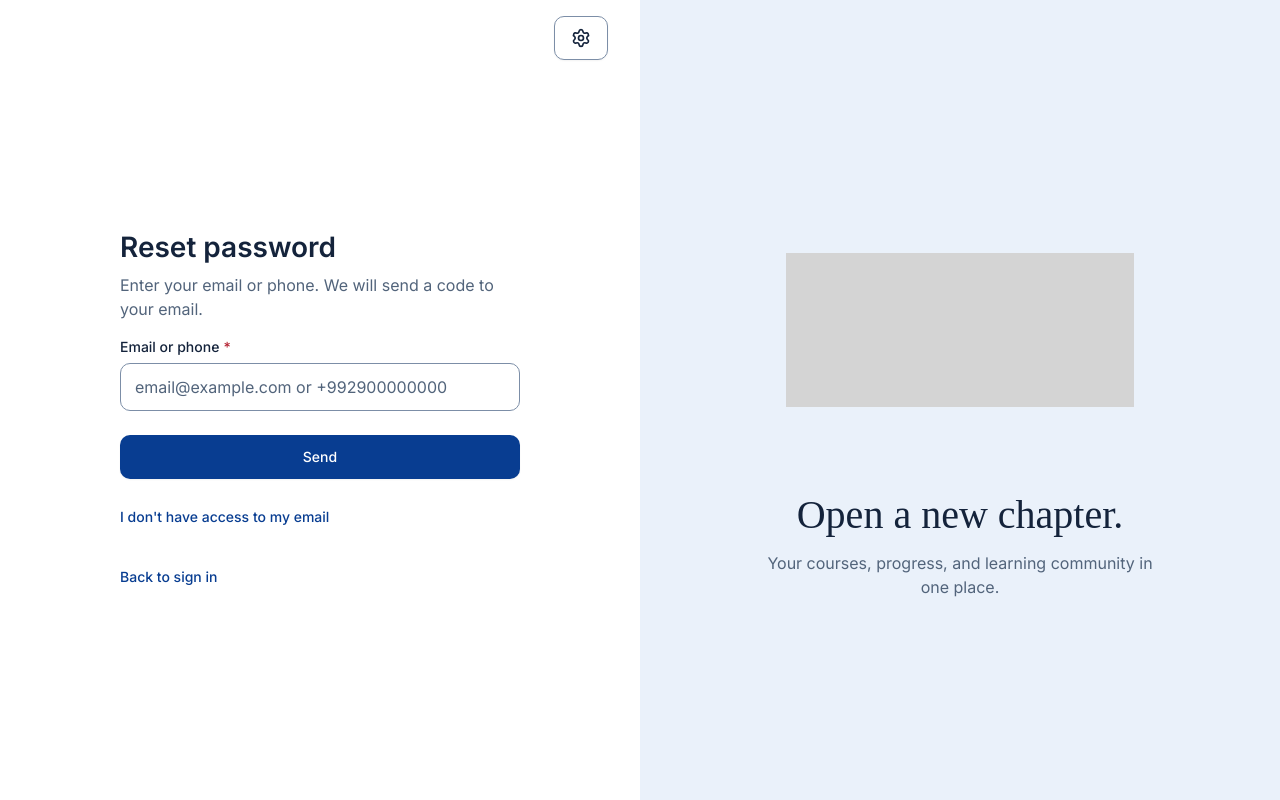
Test: ForgotPassword default path › sends only the identifier and keeps the email code entry reachable without naming the account
In the field labelled "Email or phone*": (320, 387) [120, 363, 520, 411], type "kid@example.com"
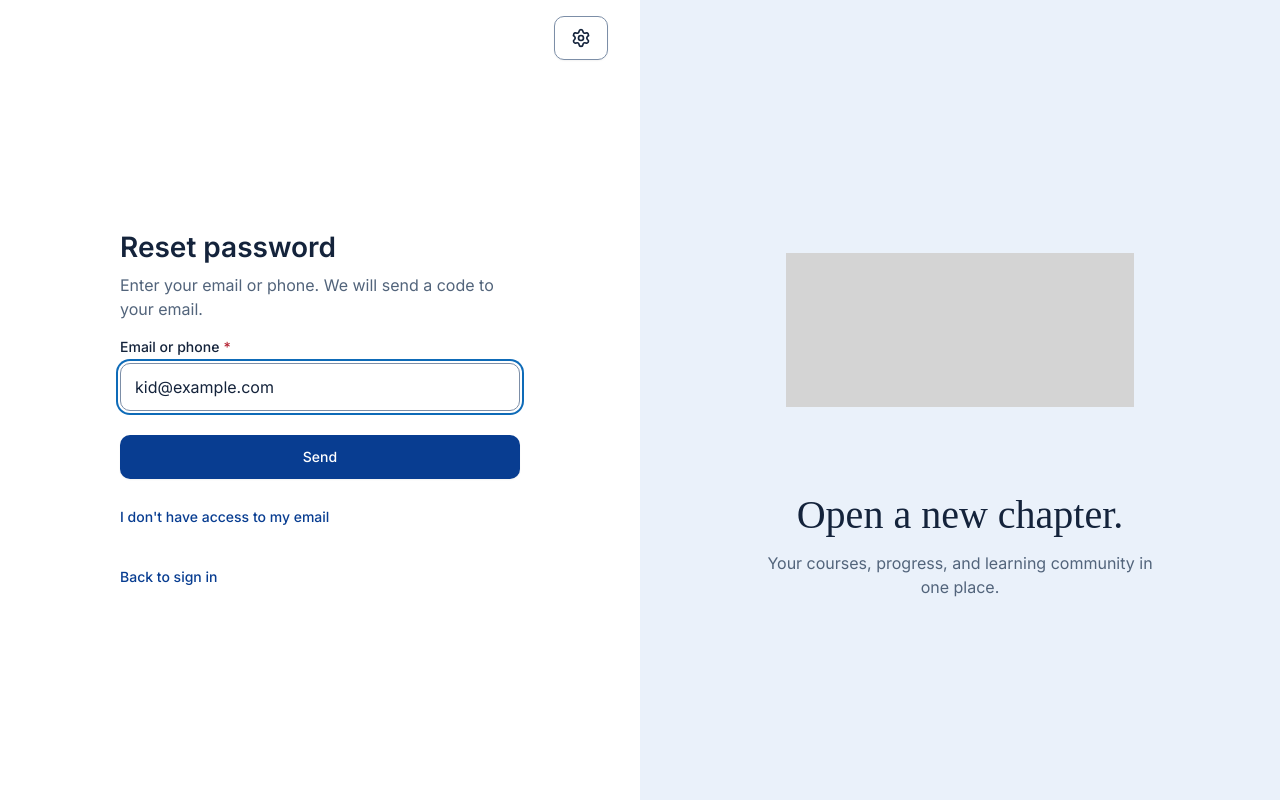
Click the button "Send": (320, 457) [120, 435, 520, 479]
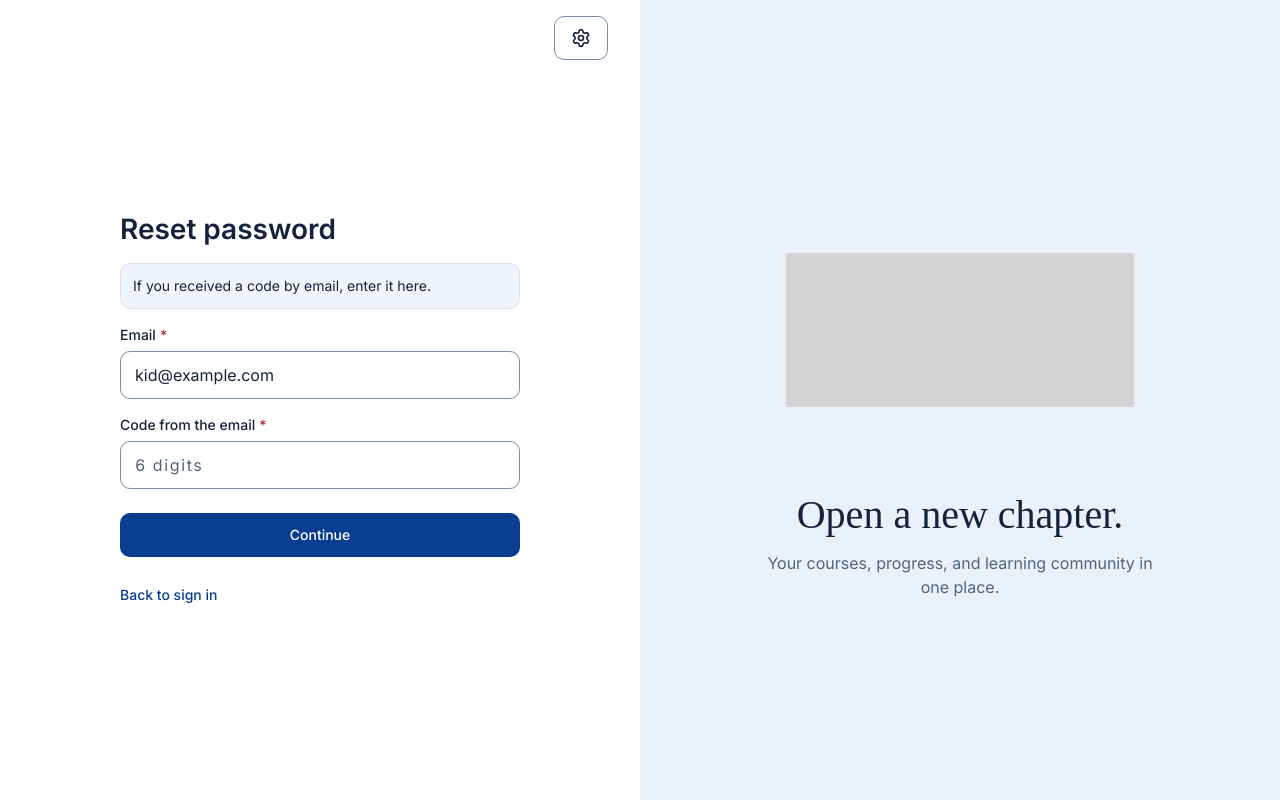
Expected: the text "If you received a code by email, enter it here." is shown, [120, 263, 520, 309]
Expected: the field labelled "Email*" holds "kid@example.com", [120, 351, 520, 399]
Expected: the field labelled "Code from the email*" is shown, [120, 441, 520, 489]
